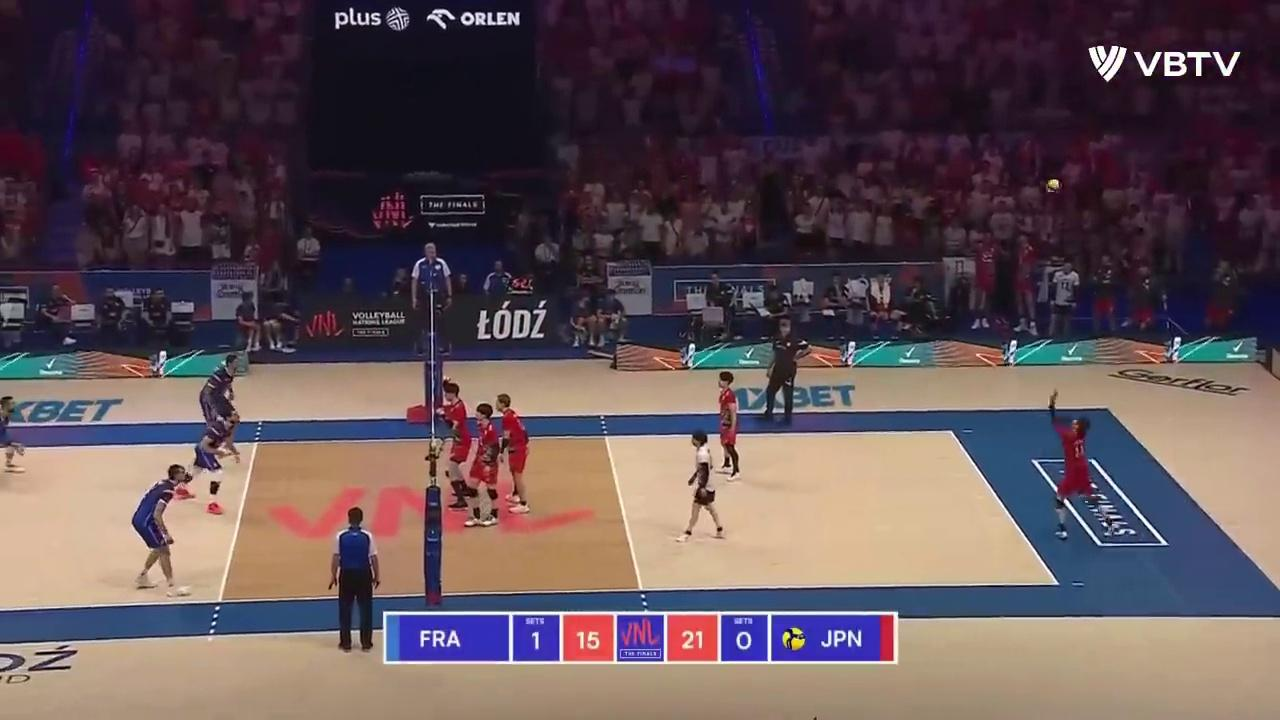ball: (1045, 178, 1063, 194)
